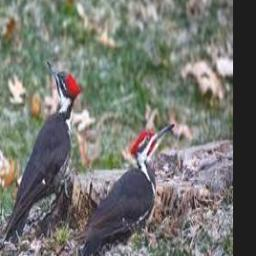Woodpecker: (0, 62, 82, 248), (73, 123, 174, 251)
